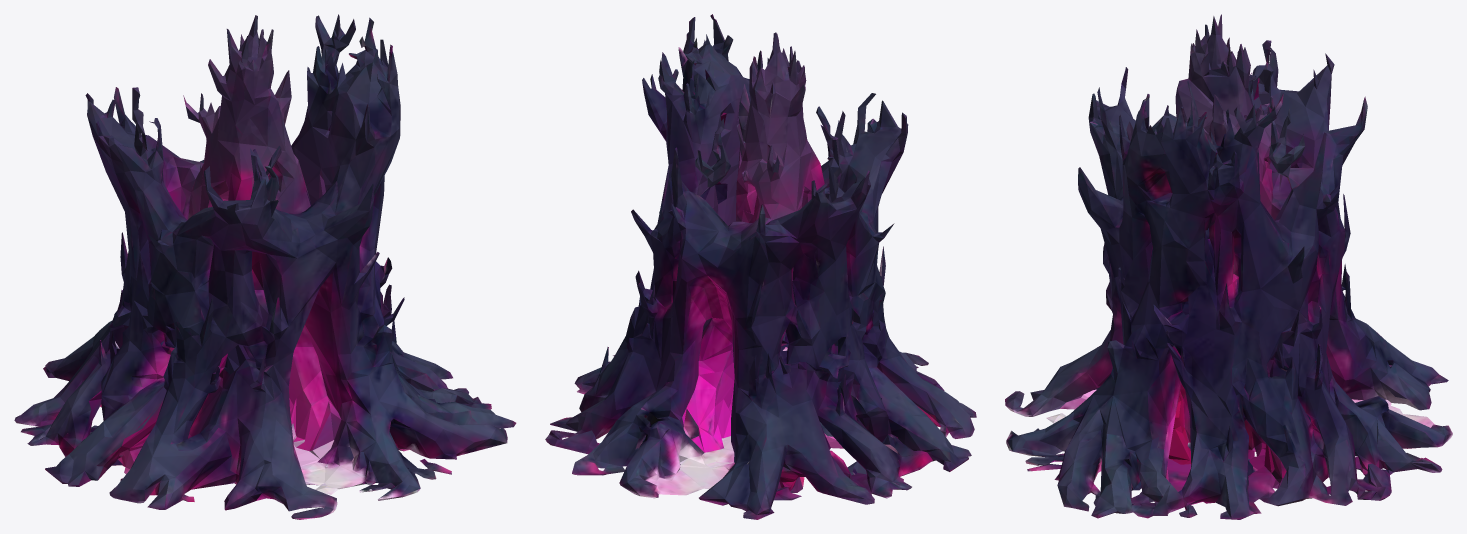
The model's file is yggdrasil-root-northwest.collider.glb.
3 views of the same model, side by side, from view 1: azimuth 30°, elevation 25°; view 2: azimuth 150°, elevation 25°; view 3: azimuth 270°, elevation 25° (orthographic). The views are drawn at different scales.
Parts seen in each view (by area): view 1: temp_mesh.ply; view 2: temp_mesh.ply; view 3: temp_mesh.ply.
Boxes of the visible parts, x1,y1,x2,y2 form: temp_mesh.ply: (14,14,516,519); temp_mesh.ply: (545,14,976,519); temp_mesh.ply: (1005,14,1452,519).
Bounding box in the file's own units: 1.97 × 1.94 × 1.93.
Materials: 1 (1 with a texture image).
